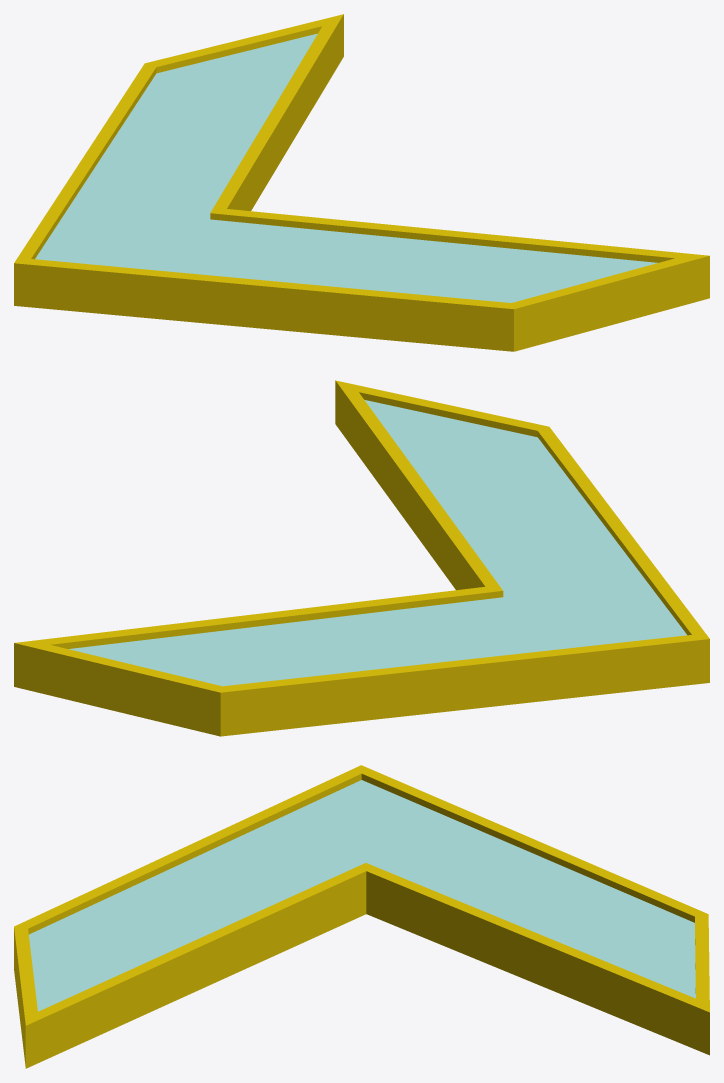
File: Arrow.fbx
The picture shows the model from 3 angles, top to bottom: view 1: azimuth 30°, elevation 25°; view 2: azimuth 150°, elevation 25°; view 3: azimuth 270°, elevation 25°; orthographic projection. The views are drawn at different scales.
Parts seen in each view (by area): view 1: ArrowOut, ArrowIn; view 2: ArrowOut, ArrowIn; view 3: ArrowIn, ArrowOut.
Boxes of the visible parts, box(x1,y1,x2,y2) form: ArrowOut: box(14, 14, 709, 351); ArrowIn: box(35, 33, 657, 302); ArrowOut: box(14, 380, 709, 736); ArrowIn: box(68, 400, 686, 686); ArrowIn: box(29, 780, 695, 1011); ArrowOut: box(14, 765, 709, 1068).
Size of the model in its own units: 116 by 8.89 by 130.
